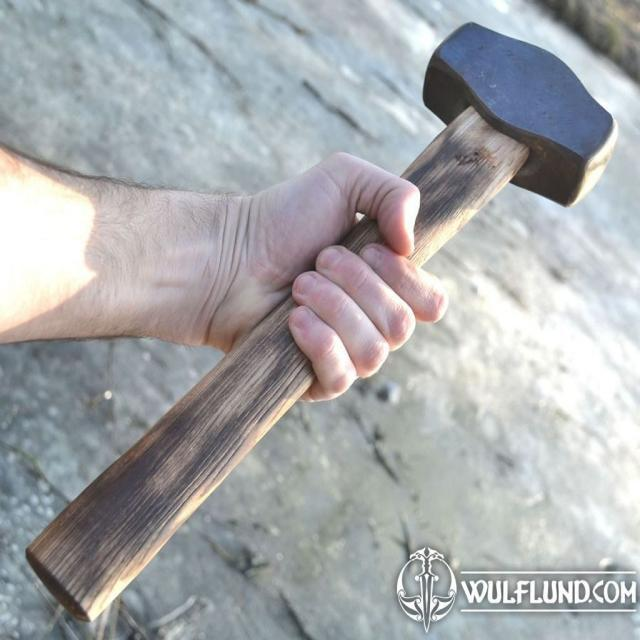hammer: (17, 11, 625, 628)
